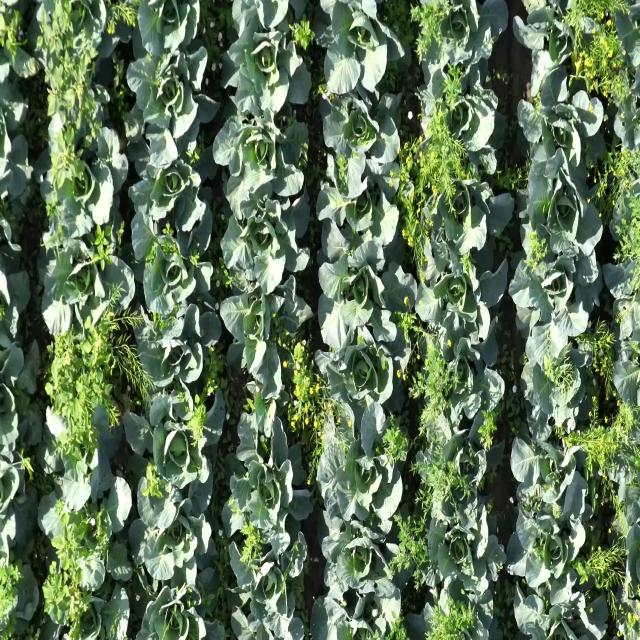holes: (125, 374, 227, 514), (320, 506, 405, 631), (317, 80, 402, 199), (604, 228, 640, 354), (612, 70, 640, 173)
